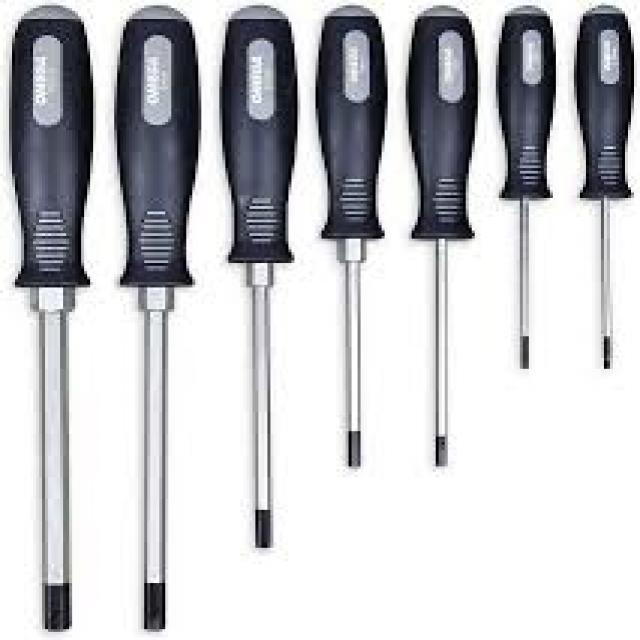screwdriver: (6, 0, 93, 637), (114, 0, 198, 632), (216, 3, 306, 556), (394, 0, 484, 472), (308, 0, 389, 477), (568, 0, 640, 372), (490, 0, 559, 380)
